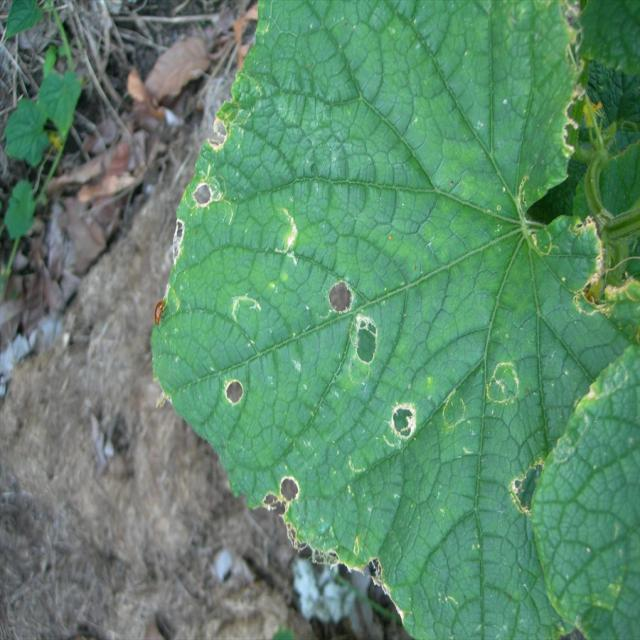Pumpkin Beetle: (145, 16, 256, 351), (311, 247, 431, 452), (506, 455, 574, 531), (476, 338, 531, 427), (261, 461, 306, 528), (210, 366, 258, 411)
